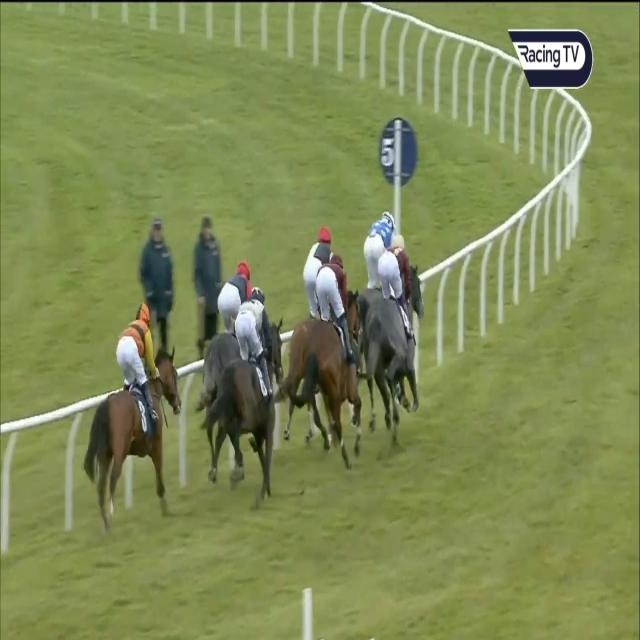horses-racing: (85, 295, 181, 524), (283, 254, 366, 458), (222, 281, 286, 500), (364, 233, 431, 431), (193, 245, 260, 394), (356, 207, 399, 291), (301, 222, 340, 307)
